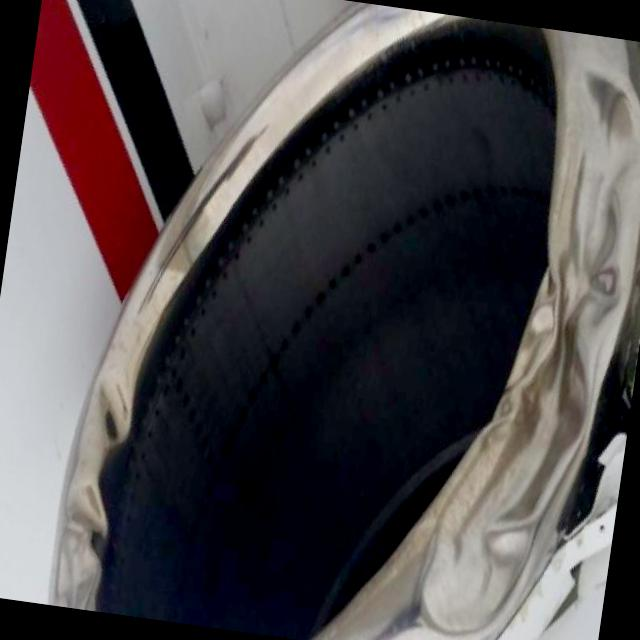dent: (410, 61, 640, 640), (54, 482, 110, 610), (87, 370, 136, 446)
